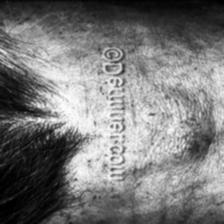Non-Cancerous Skin Condition: (129, 76, 215, 176), (11, 0, 102, 42)
